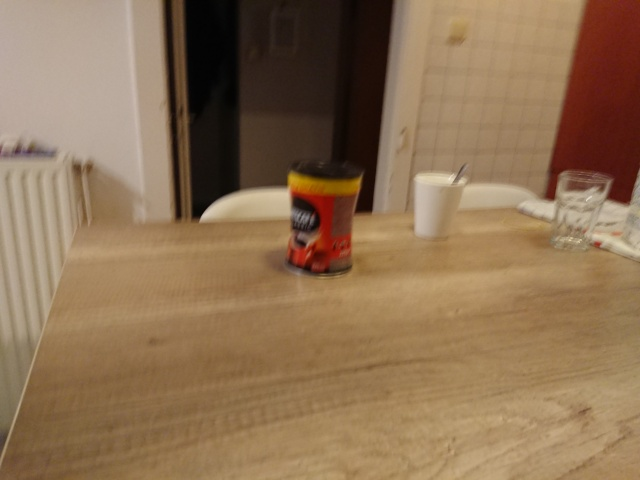Nescafe Classic 225g: (280, 156, 368, 281)
